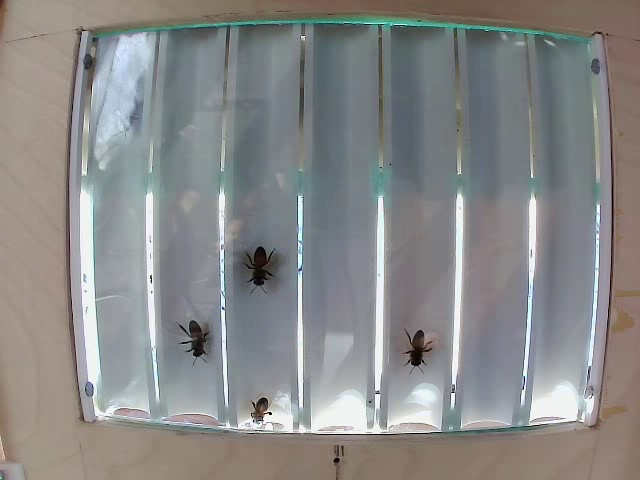bee: (237, 236, 288, 297), (182, 313, 216, 355), (401, 335, 436, 371)
